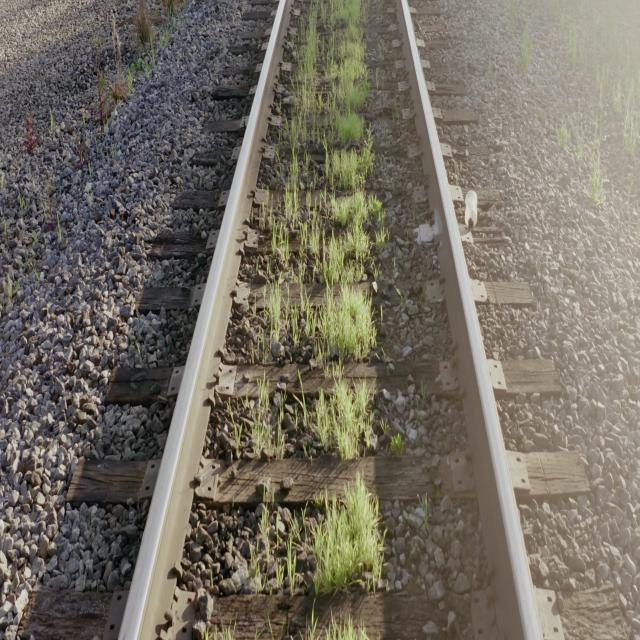Plant: (281, 0, 386, 460), (255, 478, 382, 593), (314, 473, 382, 593), (260, 278, 300, 358), (251, 376, 284, 458), (270, 216, 290, 267), (326, 620, 361, 638)
